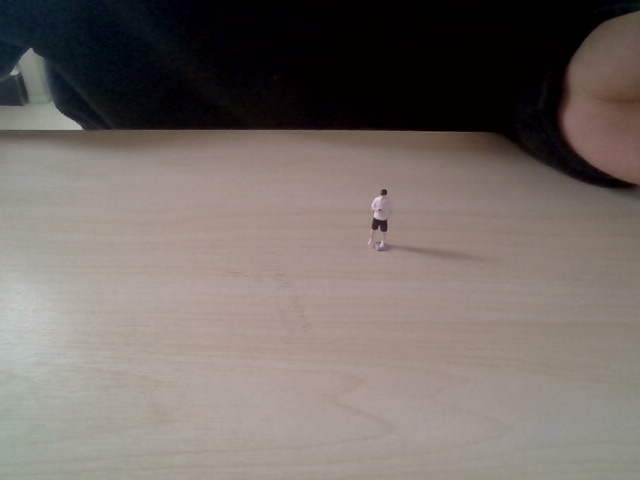walk: (362, 185, 394, 253)
